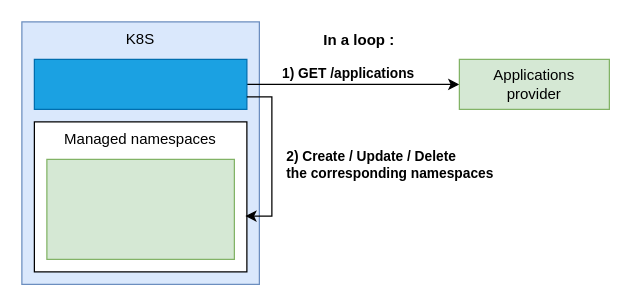
Some shapes in this 631 by 306 pixel diagram are drawn without their labels. Here are the shapes that lost their labels. From the top down, the centre of each, then its label:
At (x=140, y=83): "<<Operator>> naas-provisioner".
At (x=140, y=208): "<<Namespace>> {app.name} (managed-by=naas-provisioner)".
